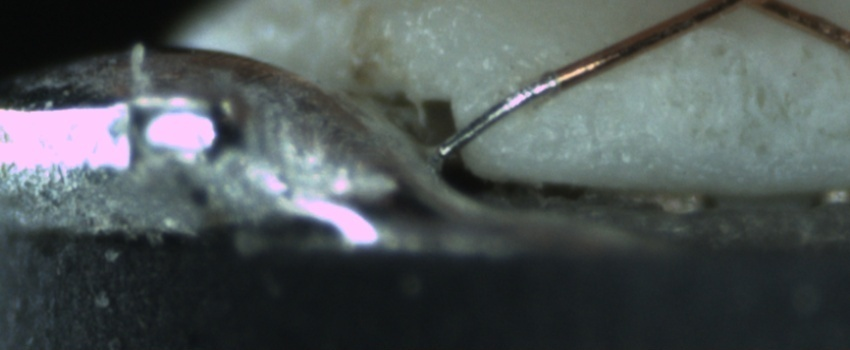CL: (703, 0, 791, 16)
TS: (437, 71, 559, 164)
